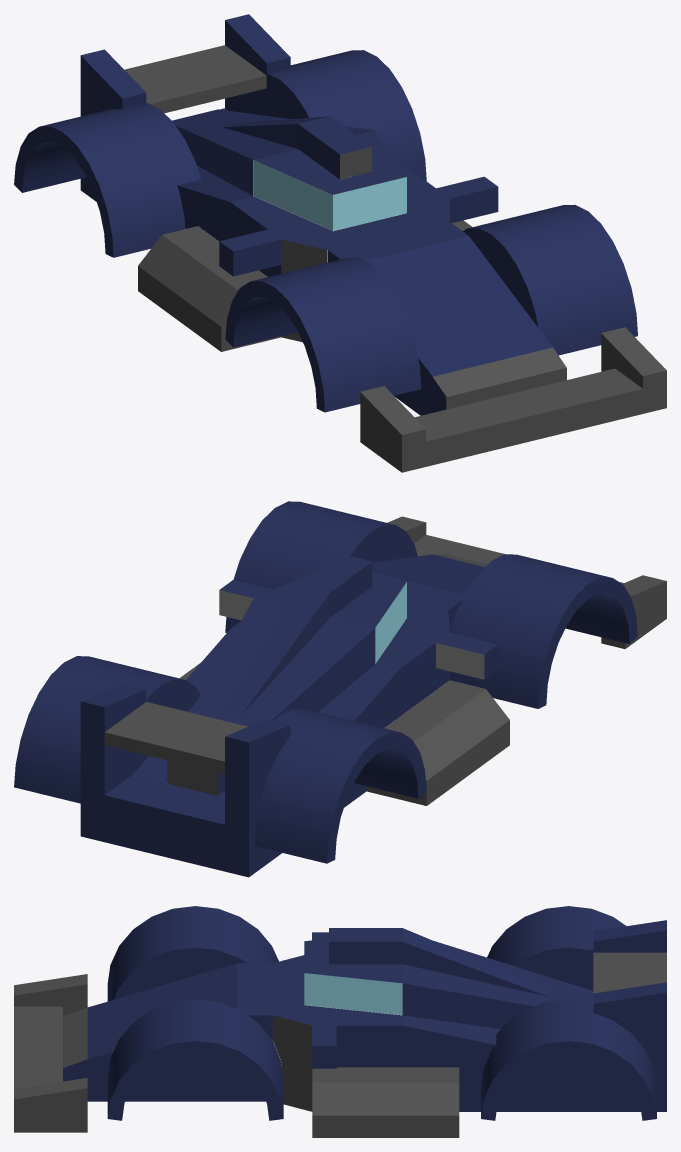
File: Car.glb
3 renders of one model, top to bottom at view 1: azimuth 30°, elevation 25°; view 2: azimuth 150°, elevation 25°; view 3: azimuth 270°, elevation 25°, orthographic. The views are drawn at different scales.
Parts seen in each view (by area): view 1: body.006; view 2: body.006; view 3: body.006.
Part boxes in pixels (x1,y1,x2,y2): body.006: (14,14,666,472); body.006: (14,501,666,877); body.006: (14,906,666,1137).
Bounding box in the file's own units: 1.3 × 0.6328 × 2.66.
